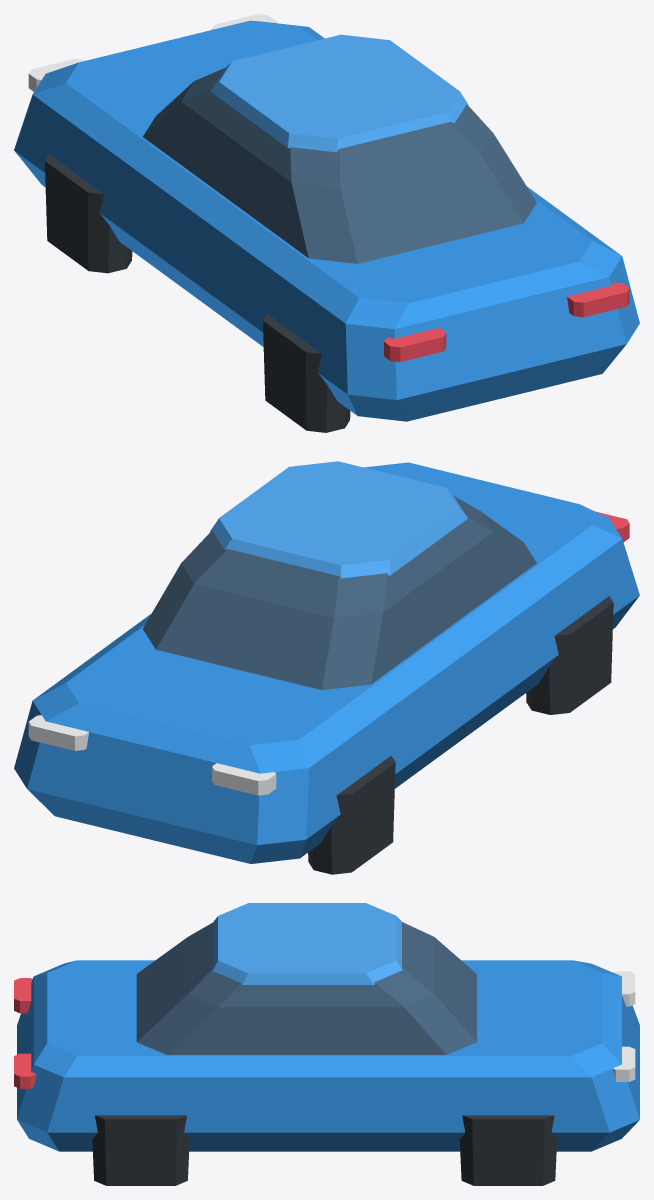
Rendered from HorizonVehicle.glb.
The picture shows the model from 3 angles, top to bottom: view 1: azimuth 30°, elevation 25°; view 2: azimuth 150°, elevation 25°; view 3: azimuth 270°, elevation 25°; orthographic projection. The views are drawn at different scales.
Size of the model in its own units: 1.98 by 1.35 by 4.14.
